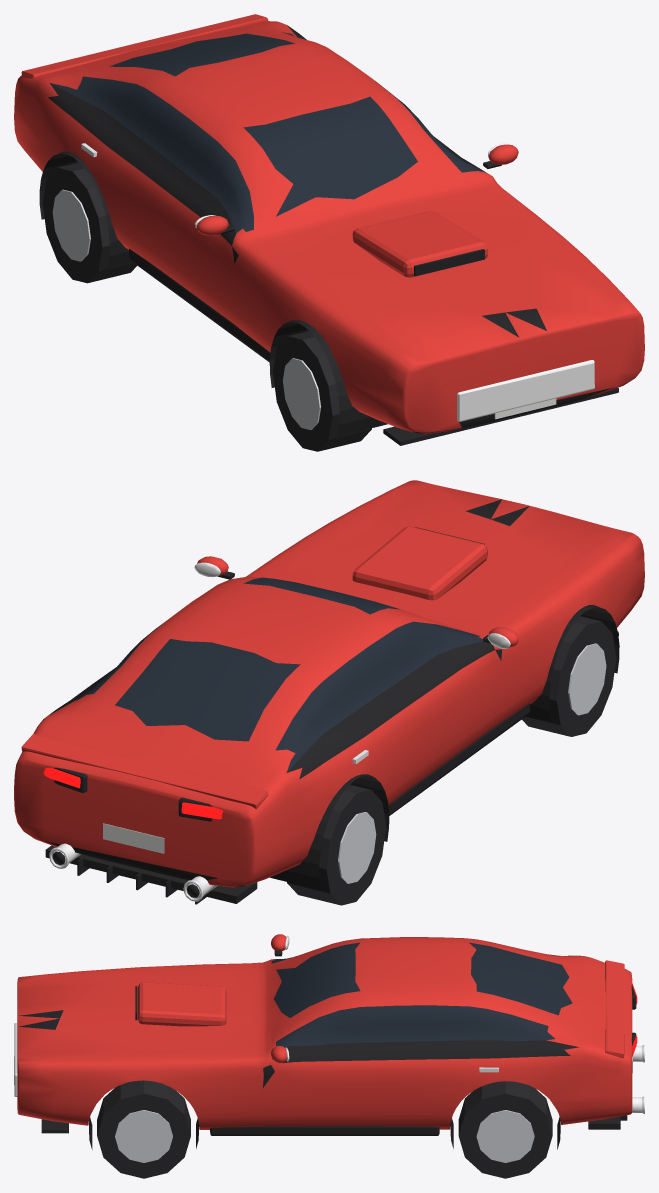
File: brenner_lod.glb
3 renders of one model, top to bottom at view 1: azimuth 30°, elevation 25°; view 2: azimuth 150°, elevation 25°; view 3: azimuth 270°, elevation 25°, orthographic. The views are drawn at different scales.
Visible parts, largest first — view 1: body, wheel_fr, wheel_rr; view 2: body, wheel_rr, wheel_fr; view 3: body, wheel_fl, wheel_rl.
Part boxes in pixels (x1,y1,x2,y2): body: [14, 14, 644, 445]; wheel_fr: [273, 331, 371, 451]; wheel_rr: [42, 162, 137, 283]; body: [14, 480, 644, 904]; wheel_rr: [287, 784, 386, 905]; wheel_fr: [522, 616, 616, 736]; body: [14, 934, 644, 1149]; wheel_fl: [97, 1080, 190, 1178]; wheel_rl: [458, 1081, 552, 1178].
Bounding box in the file's own units: 2.29 × 1.4 × 4.97.
